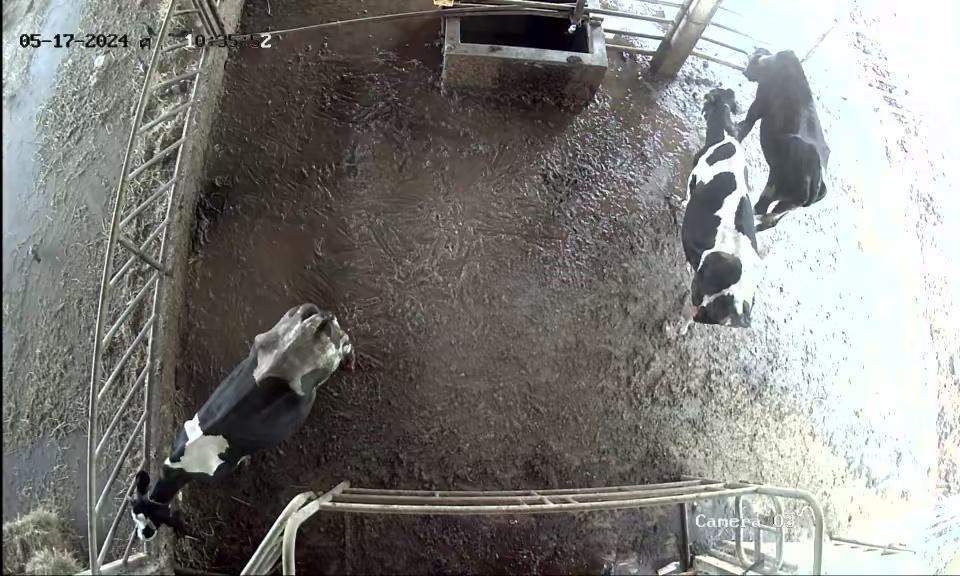stand: (122, 295, 367, 546), (648, 86, 772, 354), (743, 36, 842, 226)
